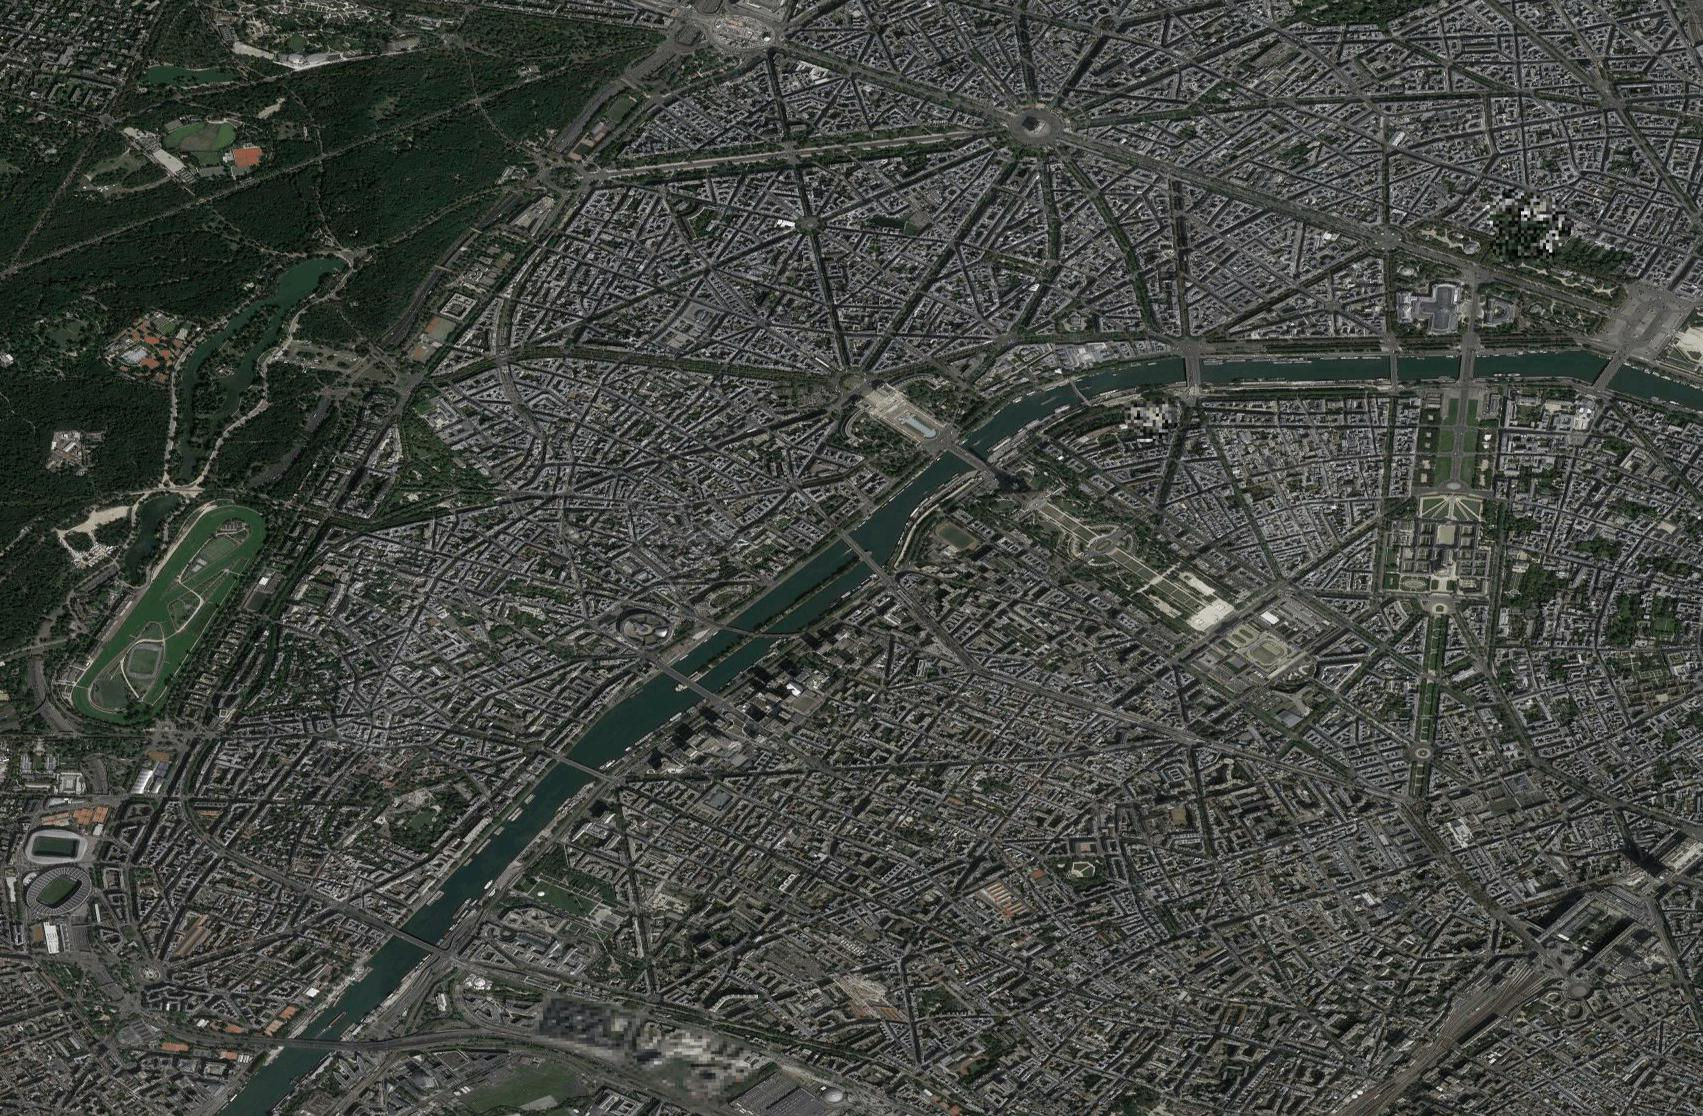bridge: (832, 527, 893, 573), (939, 435, 988, 476), (659, 663, 716, 696), (388, 925, 442, 954), (551, 752, 605, 780), (278, 1031, 342, 1052), (1062, 372, 1092, 409), (1179, 352, 1209, 389), (1593, 352, 1623, 389), (1452, 343, 1481, 377), (1379, 349, 1405, 382)
